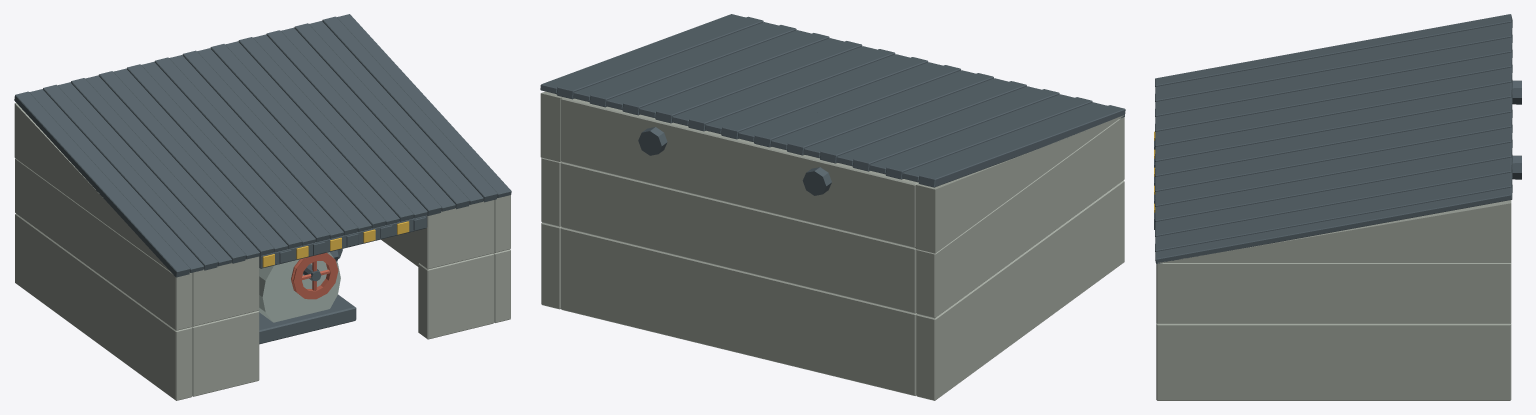
Rendered from pump_house.glb.
3 views of the same model, side by side, from view 1: azimuth 30°, elevation 25°; view 2: azimuth 150°, elevation 25°; view 3: azimuth 270°, elevation 25° (orthographic). The views are drawn at different scales.
Parts seen in each view (by area): view 1: Occlude_Roof_Mesh, Keep_Mesh; view 2: Occlude_Roof_Mesh, Keep_Mesh; view 3: Occlude_Roof_Mesh, Keep_Mesh.
Part boxes in pixels (x1,y1,x2,y2): Occlude_Roof_Mesh: (14, 14, 511, 330); Keep_Mesh: (15, 213, 510, 400); Occlude_Roof_Mesh: (540, 14, 1125, 318); Keep_Mesh: (541, 180, 1124, 400); Occlude_Roof_Mesh: (1154, 14, 1521, 323); Keep_Mesh: (1156, 323, 1511, 400).
Size of the model in its own units: 6 by 3.23 by 5.18.
